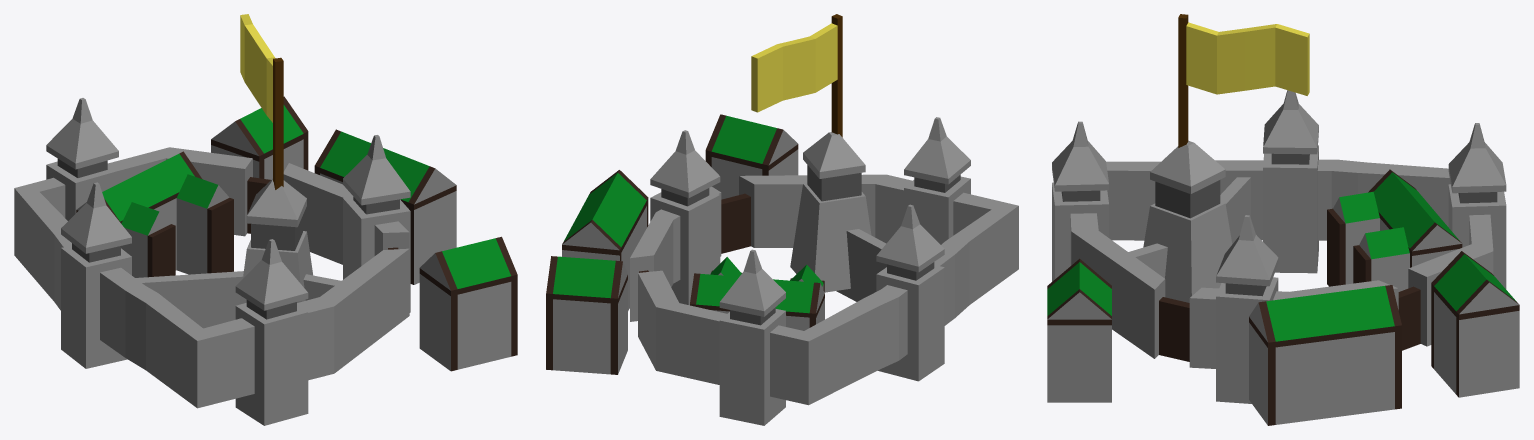
Rendered from SM_TilePlayerBase.fbx.
3 views of the same model, side by side, from view 1: azimuth 30°, elevation 25°; view 2: azimuth 150°, elevation 25°; view 3: azimuth 270°, elevation 25° (orthographic). The views are drawn at different scales.
Visible parts, largest first — view 1: TilePlayerBase, TilePlayerBaseFlag; view 2: TilePlayerBase, TilePlayerBaseFlag; view 3: TilePlayerBase, TilePlayerBaseFlag.
Part boxes in pixels (x1,y1,x2,y2): TilePlayerBase: (14, 96, 517, 425); TilePlayerBaseFlag: (240, 14, 283, 189); TilePlayerBase: (546, 114, 1018, 425); TilePlayerBaseFlag: (751, 14, 842, 137); TilePlayerBase: (1047, 90, 1519, 425); TilePlayerBaseFlag: (1178, 14, 1309, 147).
Size of the model in its own units: 426 by 329 by 453.
